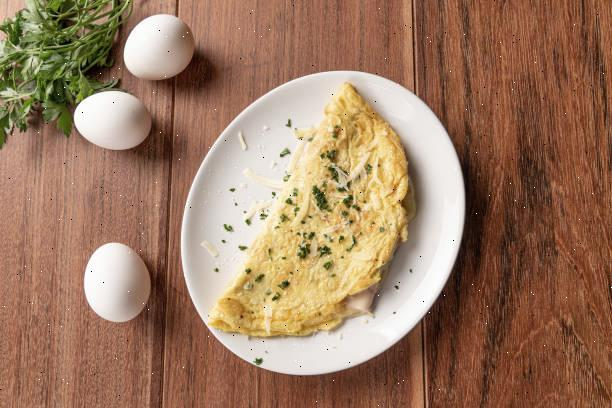eggs: (77, 18, 192, 347)
omelette: (224, 84, 410, 346)
